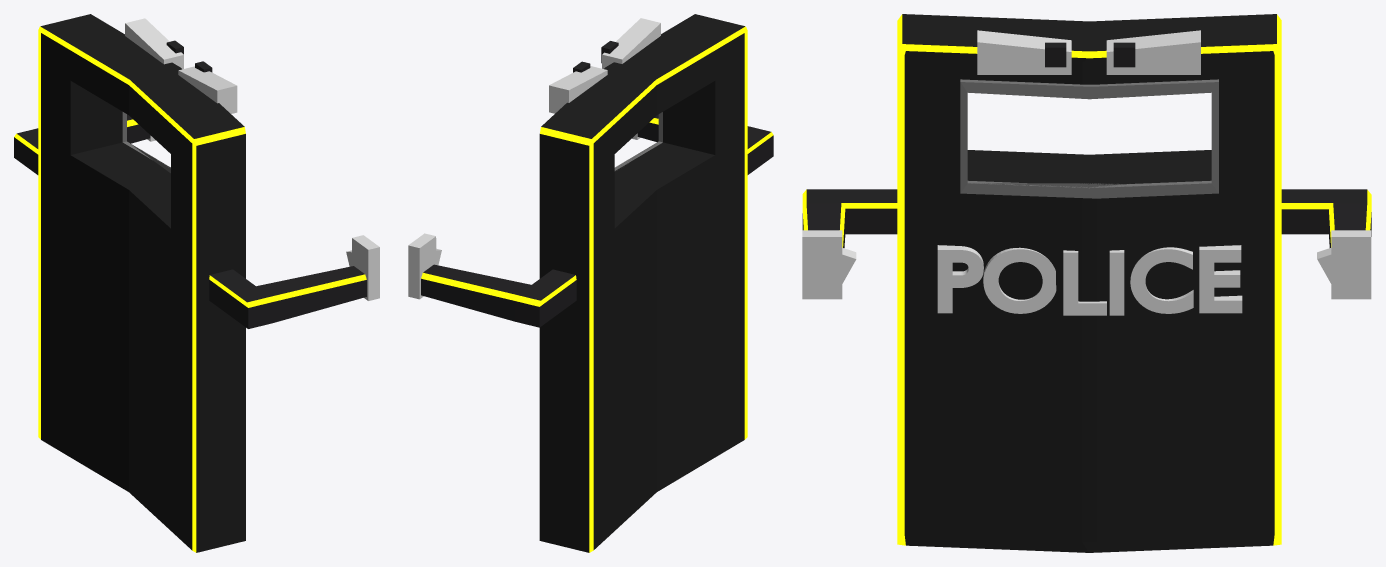
File: J_Barrera_Shield.fbx
3 views of the same model, side by side, from view 1: azimuth 30°, elevation 25°; view 2: azimuth 150°, elevation 25°; view 3: azimuth 270°, elevation 25° (orthographic). The views are drawn at different scales.
Visible parts, largest first — view 1: Cube.026; view 2: Cube.026; view 3: Cube.026.
Boxes of the visible parts, box(x1,y1,x2,y2) form: Cube.026: box(14, 14, 379, 552); Cube.026: box(408, 14, 773, 552); Cube.026: box(802, 14, 1371, 552).
Bounding box in the file's own units: 64.7 × 181 × 181.
